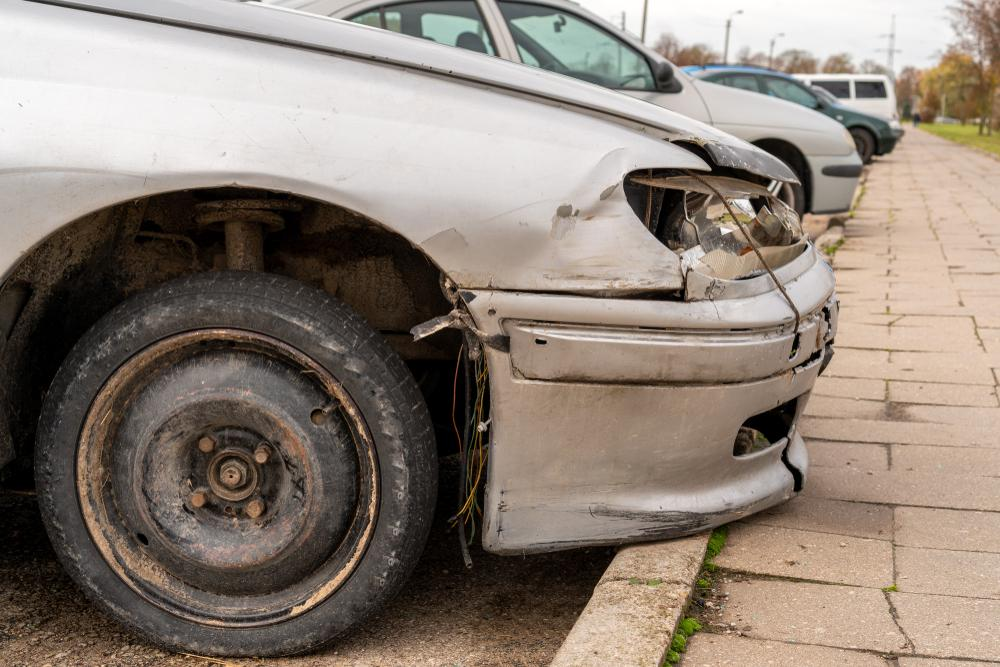crack: (779, 436, 805, 493)
dent: (460, 150, 627, 286)
lamp broken: (622, 172, 810, 279)
scratch: (492, 486, 763, 551)
